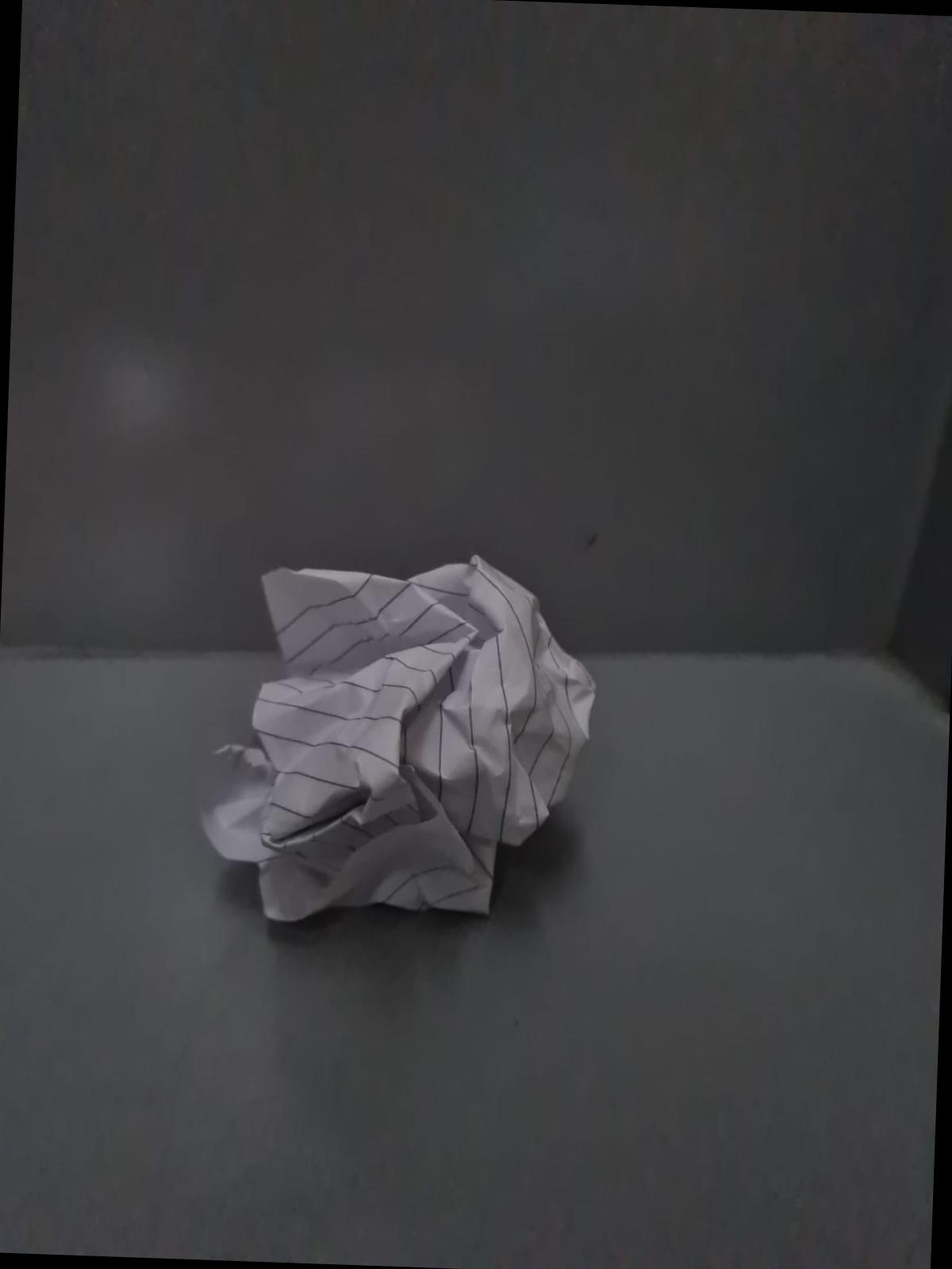Kertas: (182, 550, 605, 930)
